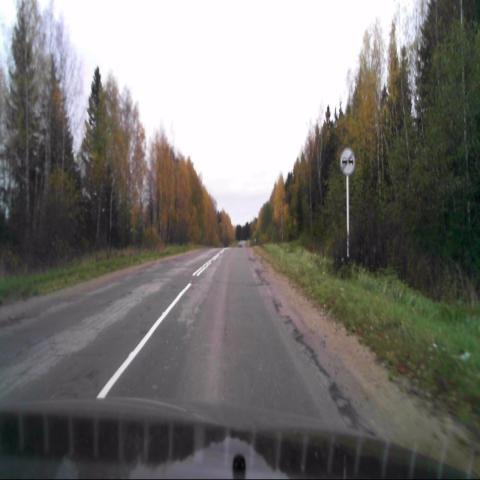3_21: (339, 148, 355, 177)
